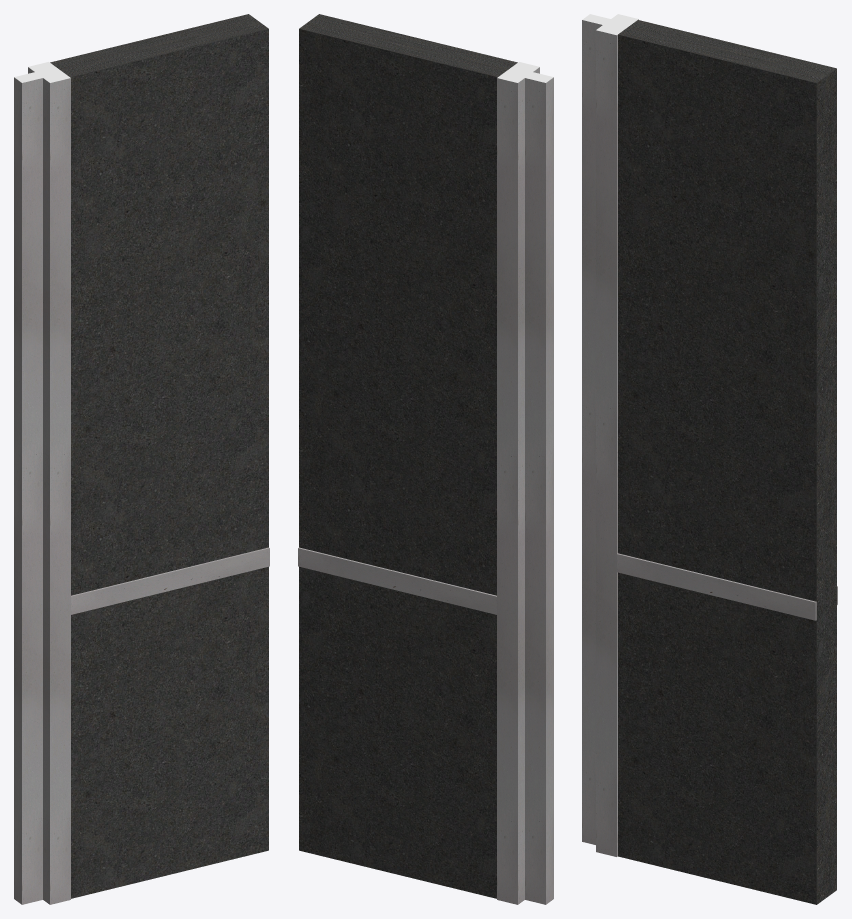
Rendered from ElevatorDoor.fbx.
The picture shows the model from 3 angles, left to right: view 1: azimuth 30°, elevation 25°; view 2: azimuth 150°, elevation 25°; view 3: azimuth 330°, elevation 25°; orthographic projection.
Visible parts, largest first — view 1: node_id8 (×3); view 2: node_id8 (×3); view 3: node_id8 (×3).
Boxes of the visible parts, x1,y1,x2,y2 form: node_id8 (×3): (14, 14, 269, 904); node_id8 (×3): (298, 14, 553, 904); node_id8 (×3): (582, 14, 837, 904).
Bounding box in the file's own units: 0.157 × 0.512 × 0.025.
Materials: 3 (2 with a texture image).
